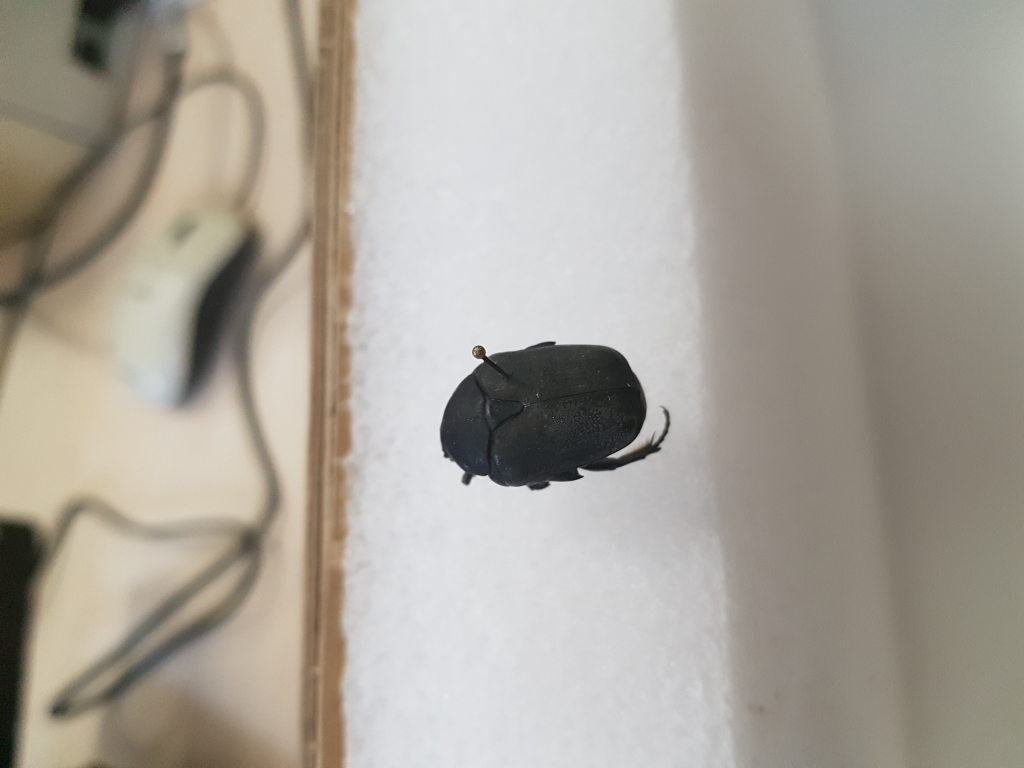Protaetia_afflicta: (429, 334, 676, 493)
